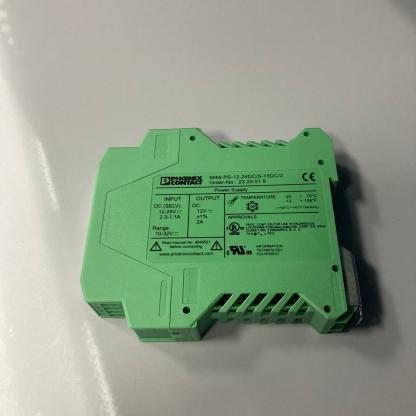SP0000011: (45, 68, 404, 381)
